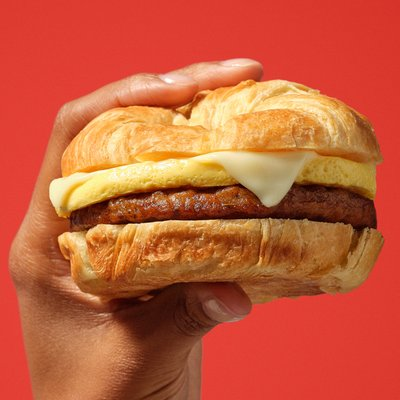burger: (50, 62, 393, 300)
